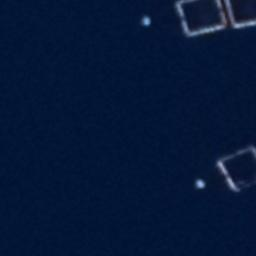square_solid: (211, 141, 256, 199), (170, 1, 232, 42), (219, 1, 256, 34)
